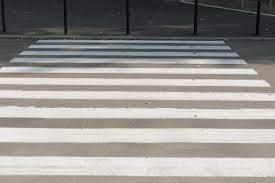crosswalk: (2, 38, 275, 183)
